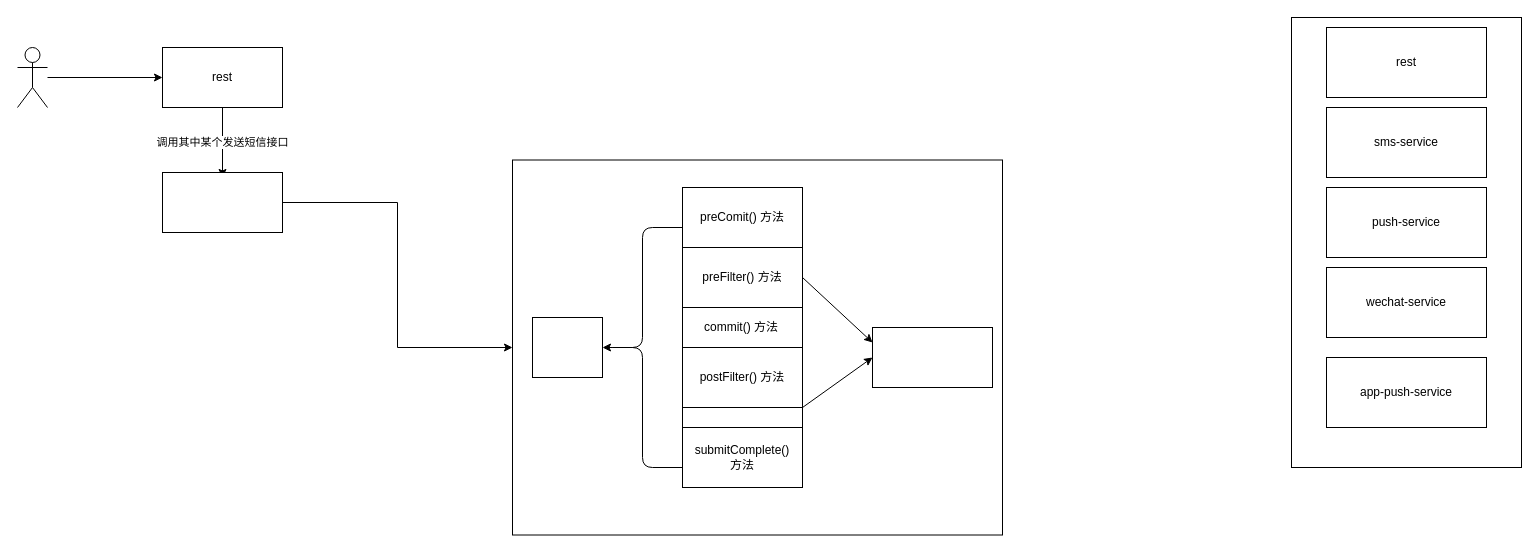
Some shapes in this 1539 by 553 pixel diagram are drawn without their labels. Each missing label, with the box of its shape:
Actor: (16, 46, 48, 108)
SmsAppManager send() 方法: (162, 172, 282, 232)
生命周期: (532, 316, 602, 378)
过滤器 SmsFilter: (872, 326, 992, 388)
